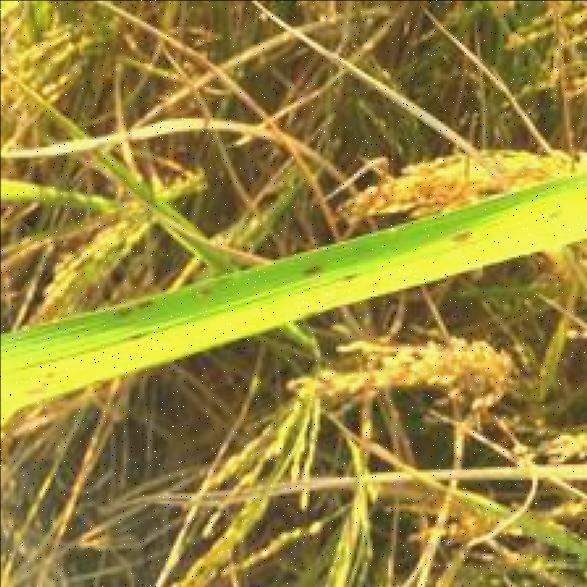Brown_Spot: (102, 291, 160, 346), (18, 367, 66, 401), (540, 199, 574, 228), (434, 223, 474, 241), (291, 257, 320, 275)
